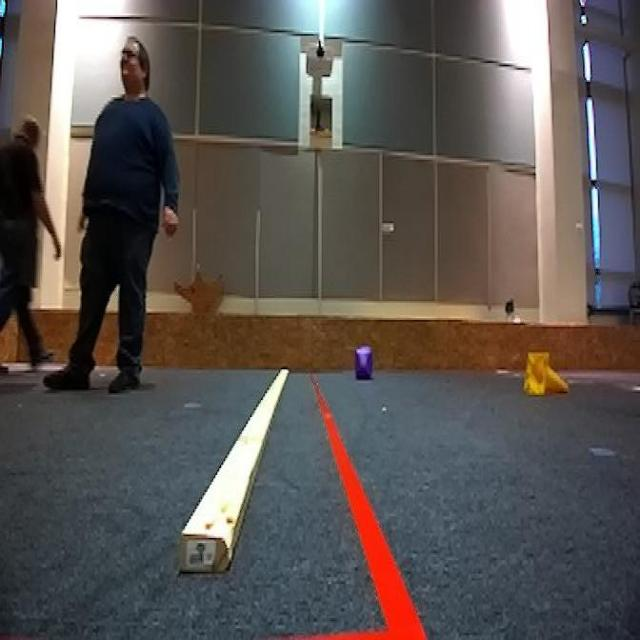frc_cone: (523, 347, 567, 397)
frc_cube: (356, 347, 374, 380)
